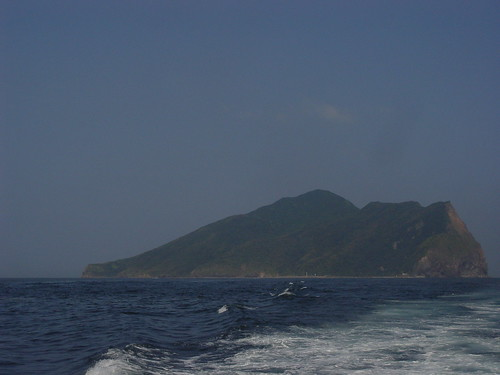turtleIsland: (86, 192, 492, 284)
